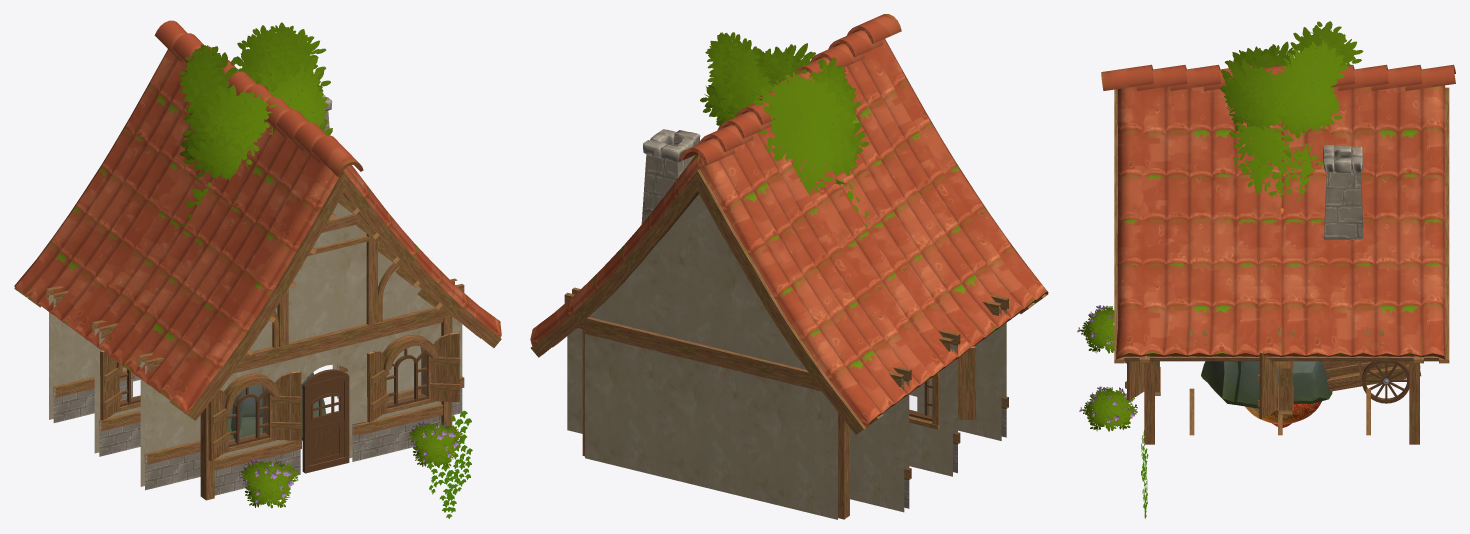
Rendered from orchard.m.glb.
3 renders of one model, left to right at view 1: azimuth 30°, elevation 25°; view 2: azimuth 150°, elevation 25°; view 3: azimuth 270°, elevation 25°, orthographic. The views are drawn at different scales.
Parts seen in each view (by area): view 1: farmhouse_mesh, tree_1_mesh, tree_2_mesh, rock_1_mesh; view 2: farmhouse_mesh, tree_1_mesh, tree_2_mesh; view 3: farmhouse_mesh, tree_2_mesh, wagon_mesh, tree_1_mesh, rock_1_mesh, rock_2_mesh, tree_apple_2_mesh, fruit_apple_mesh, tree_apple_1_mesh.
Part boxes in pixels (x1=…): farmhouse_mesh: x1=14, y1=20, x2=501, y2=518; tree_1_mesh: x1=179, y1=25, x2=311, y2=204; tree_2_mesh: x1=184, y1=22, x2=332, y2=152; rock_1_mesh: x1=228, y1=372, x2=325, y2=440; farmhouse_mesh: x1=530, y1=14, x2=1048, y2=519; tree_1_mesh: x1=716, y1=38, x2=869, y2=194; tree_2_mesh: x1=700, y1=32, x2=861, y2=165; farmhouse_mesh: x1=1077, y1=64, x2=1455, y2=518; tree_2_mesh: x1=1220, y1=21, x2=1363, y2=166; wagon_mesh: x1=1322, y1=361, x2=1421, y2=403; tree_1_mesh: x1=1227, y1=31, x2=1361, y2=193; rock_1_mesh: x1=1201, y1=361, x2=1278, y2=408; rock_2_mesh: x1=1292, y1=361, x2=1332, y2=403; tree_apple_2_mesh: x1=1240, y1=122, x2=1328, y2=214; fruit_apple_mesh: x1=1245, y1=401, x2=1321, y2=424; tree_apple_1_mesh: x1=1266, y1=133, x2=1311, y2=201.
Bounding box in the file's own units: 8.33 × 11.12 × 8.58.
Materials: 21 (16 with a texture image).
